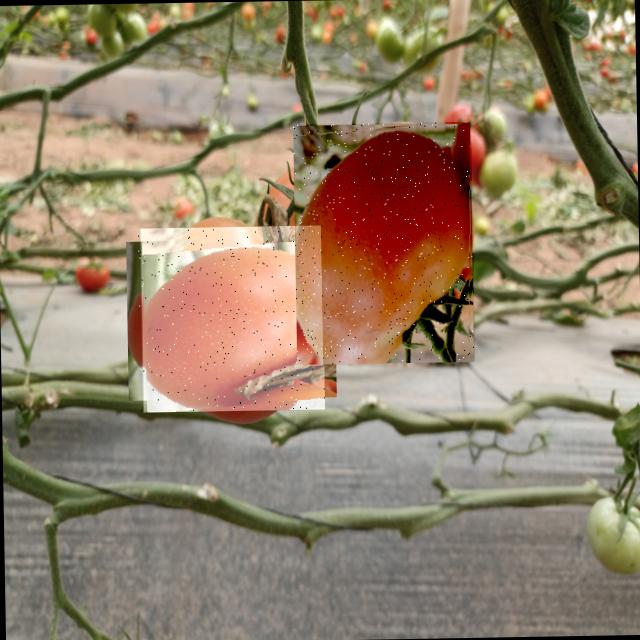Ripe Tomato: (292, 122, 474, 364), (137, 225, 324, 412)
